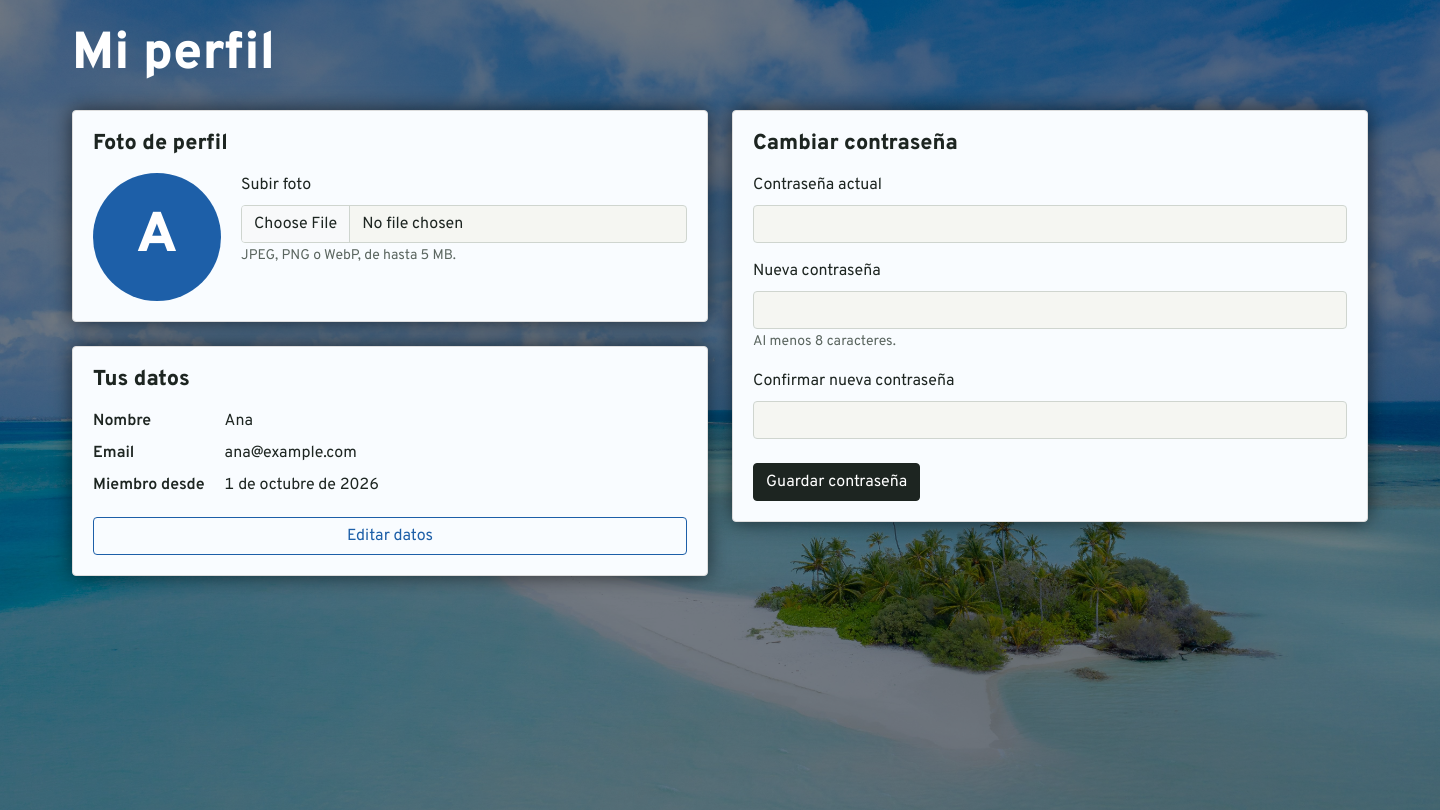
it: B3 ProfilePage details › saves the trimmed values, updates the auth context and returns to view mode
This screenshot has width=1440, height=810.
Expected: the heading "Tus datos" is shown, x1=93 y1=366 x2=190 y2=393
Click the button "Editar datos": [390, 536] box x1=93 y1=517 x2=687 y2=555
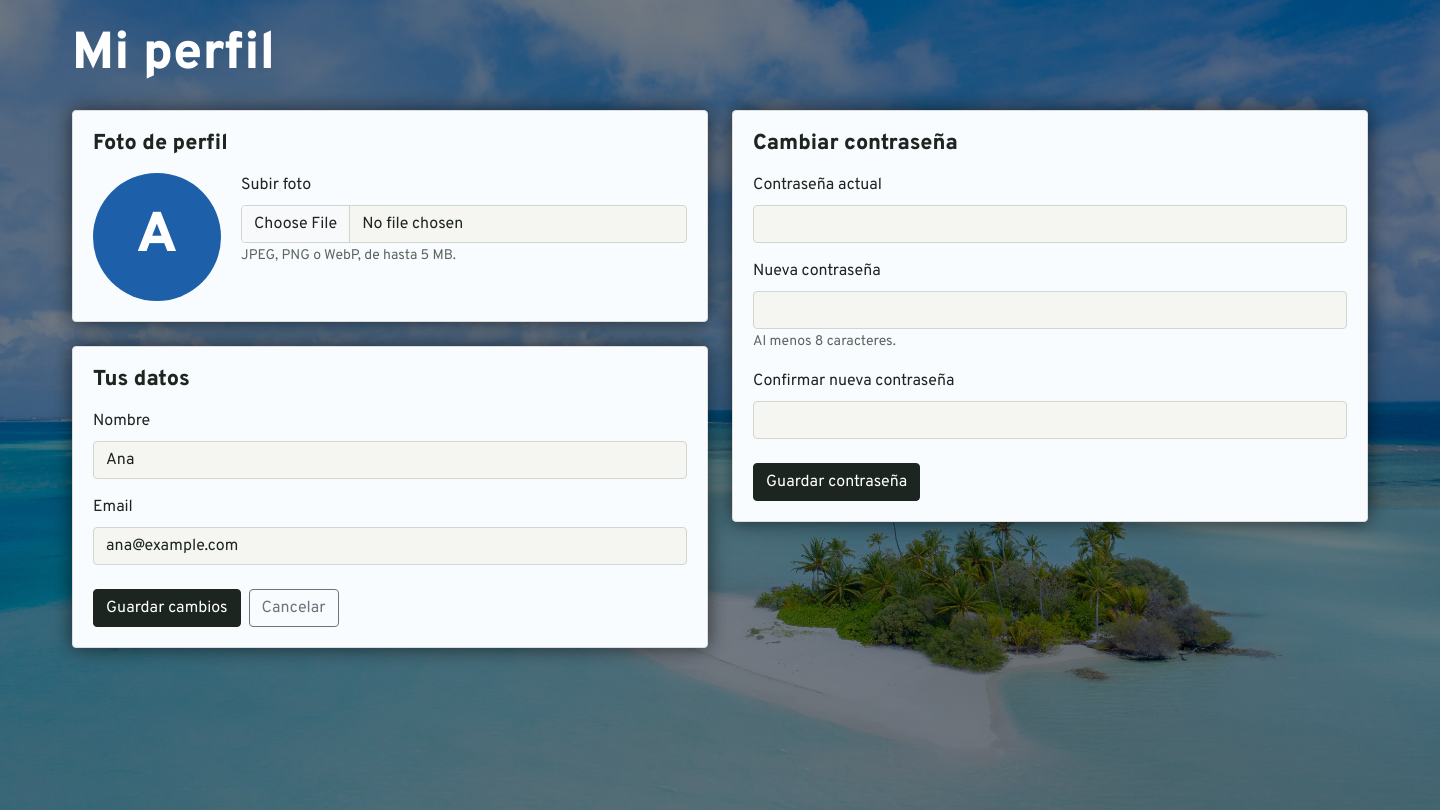
Replace the text in the field labelled "Nombre" with "  Ana Ruiz ": [390, 460] box x1=93 y1=441 x2=687 y2=479
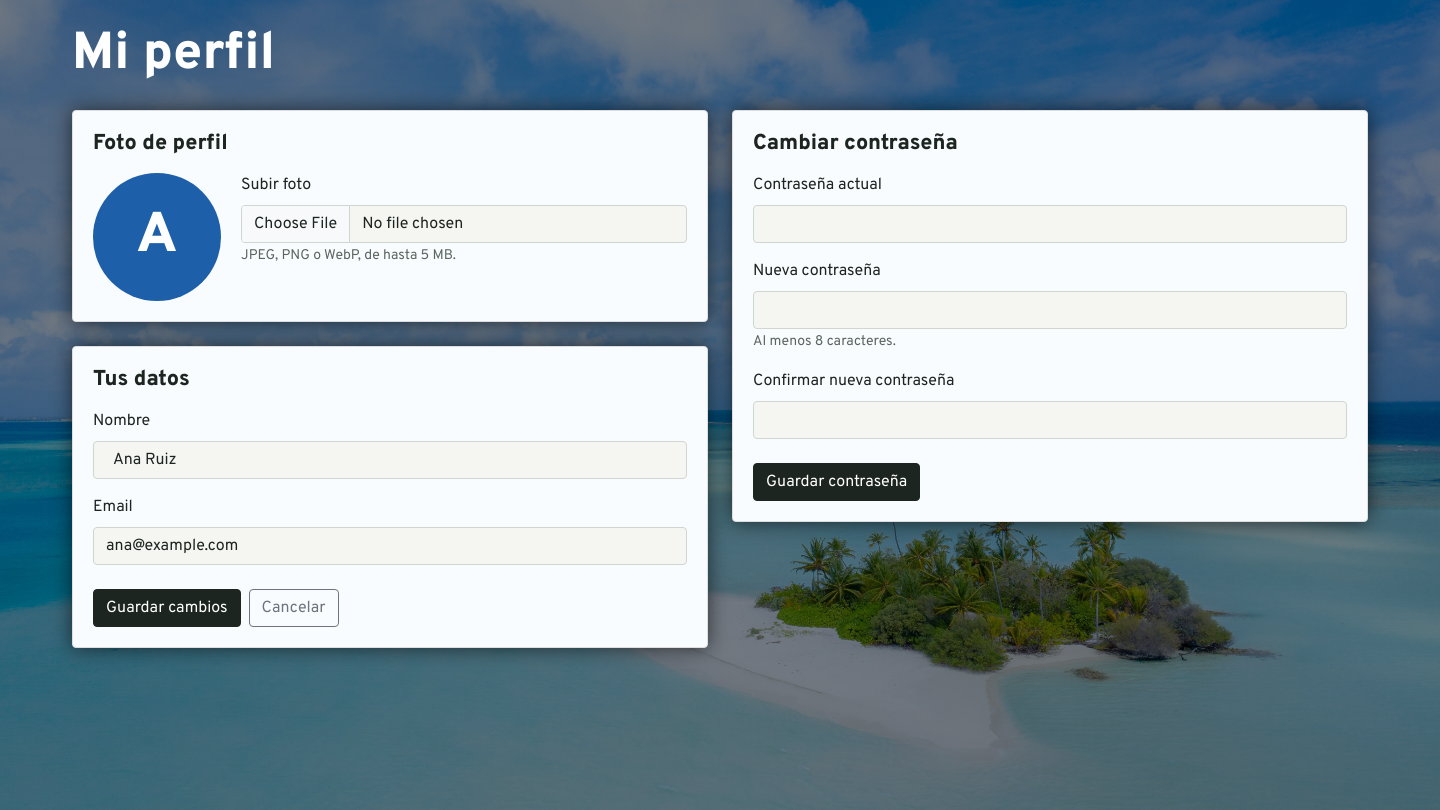
Replace the text in the field labelled "Email" with " ana.r@example.com ": [390, 546] box x1=93 y1=527 x2=687 y2=565
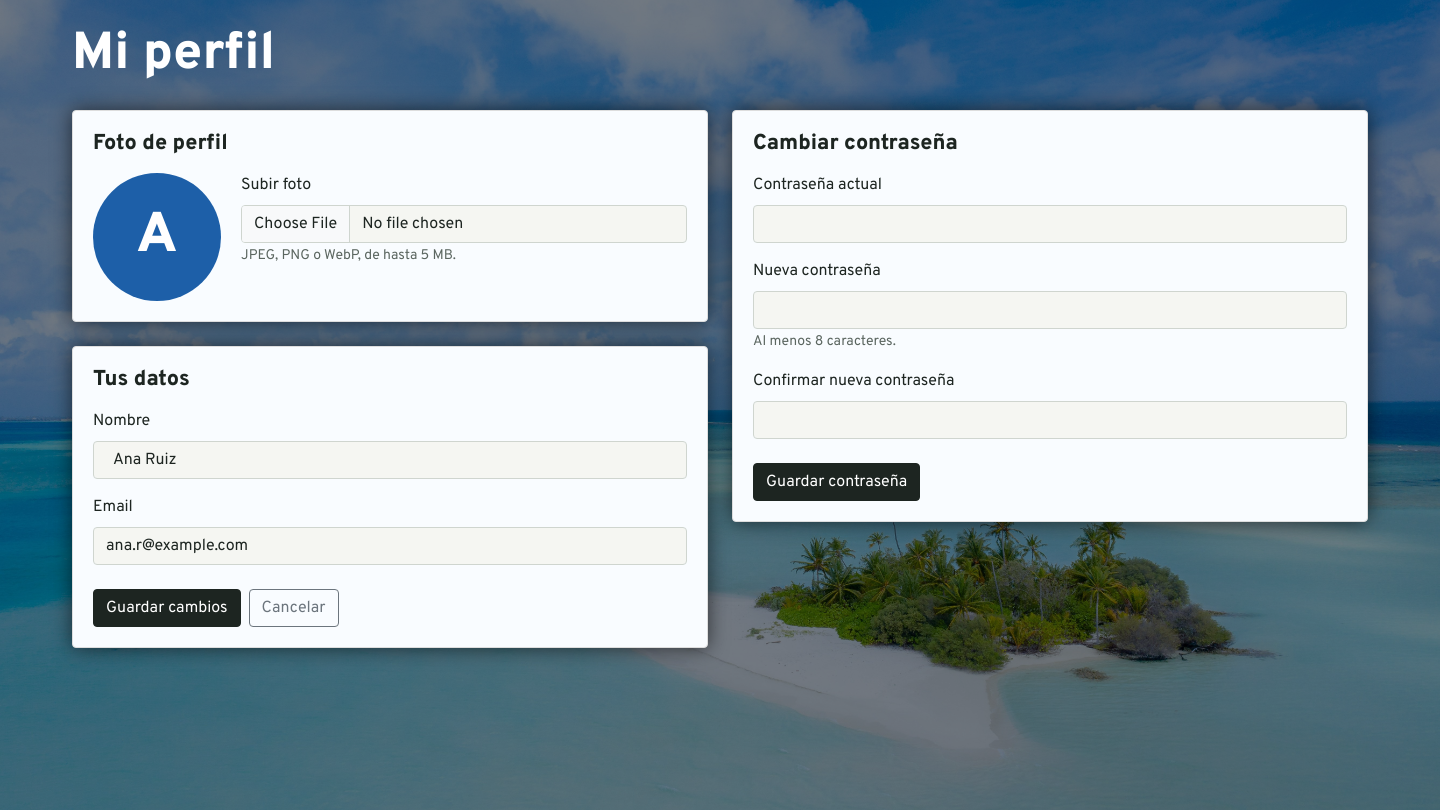
Click the button "Guardar cambios": [167, 608] box x1=93 y1=589 x2=240 y2=627
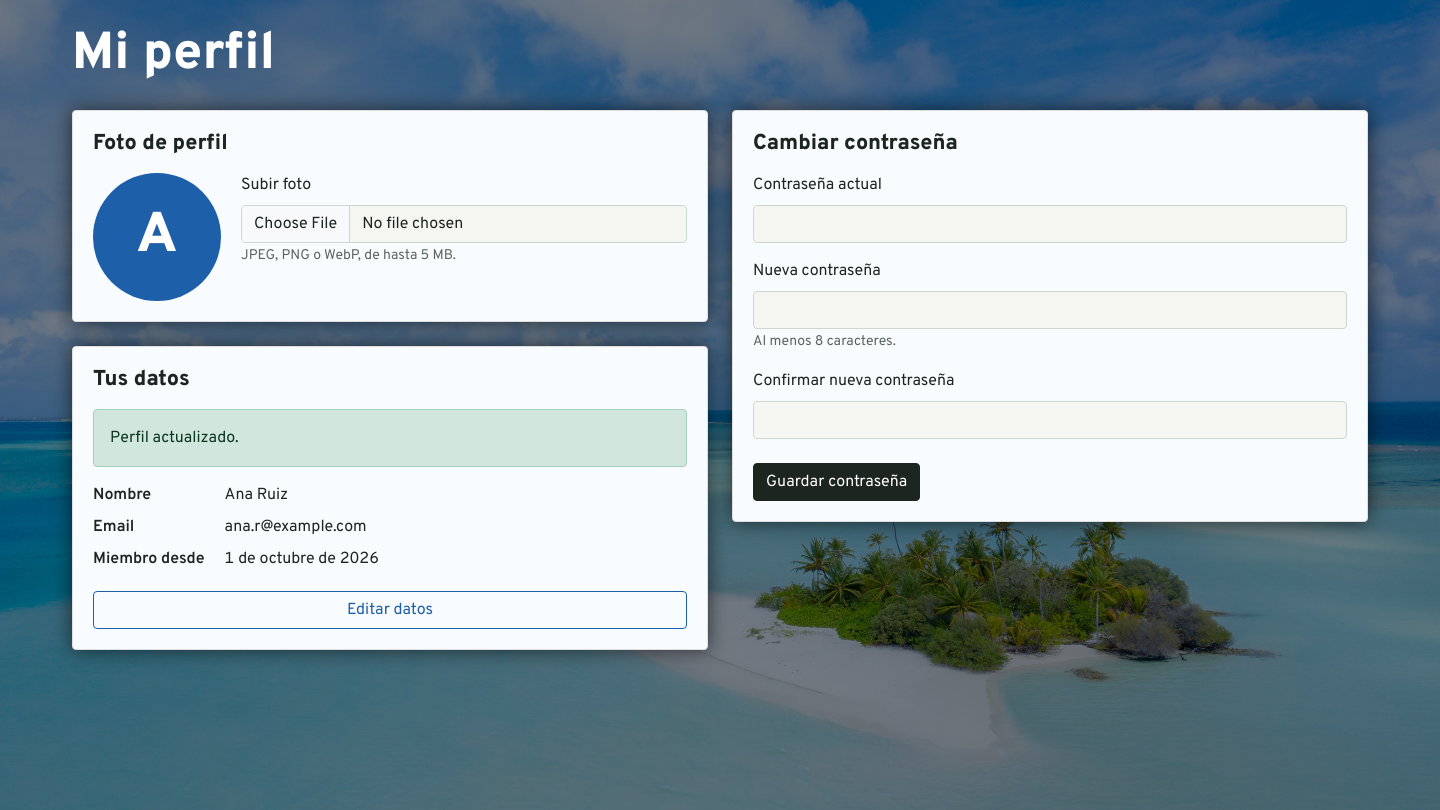
Expected: the text "Perfil actualizado." is shown, x1=93 y1=409 x2=687 y2=467
Expected: the text "ana.r@example.com" is shown, x1=224 y1=517 x2=367 y2=537
